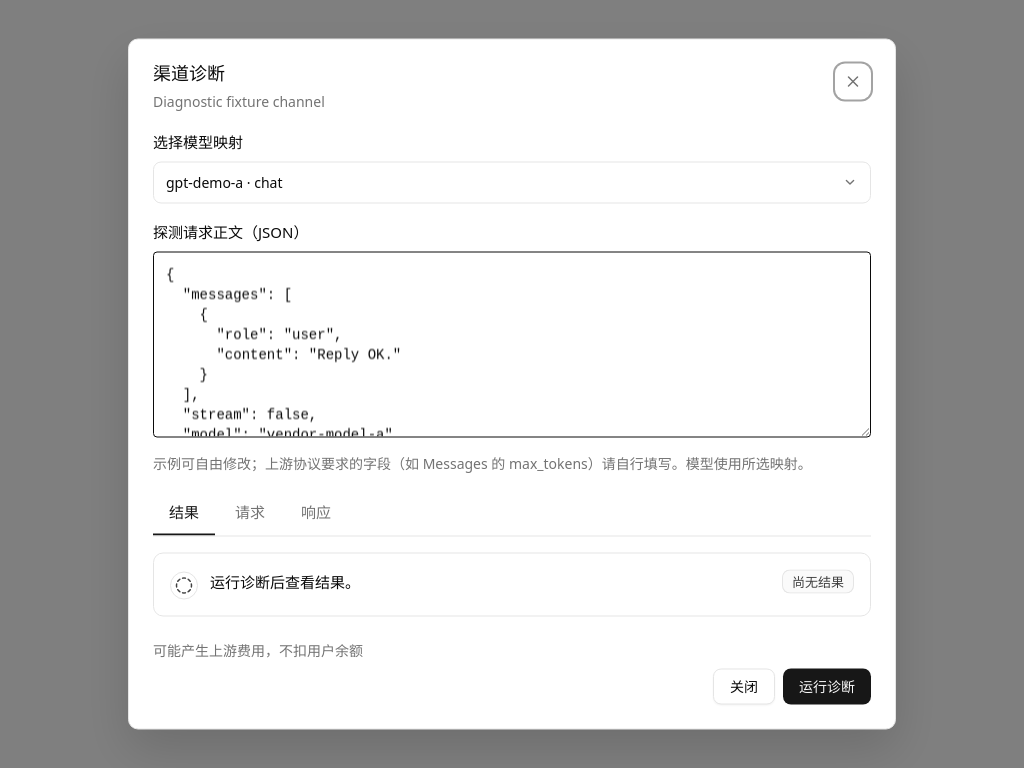
Test: ChannelDiagnostics › keeps a management API failure separate from an unknown upstream status
Step 1. Click the button "运行诊断" → [827, 686], box x1=783 y1=668 x2=871 y2=704
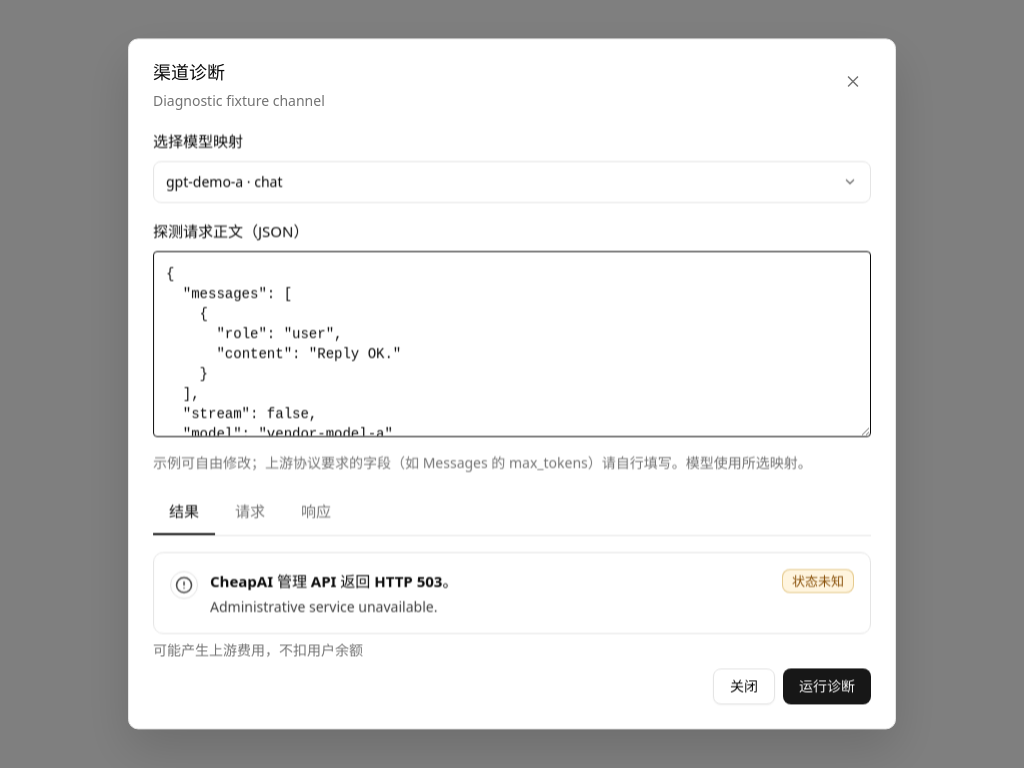
Result: the text "状态未知" is shown at x1=782 y1=569 x2=854 y2=593
Result: the element named "诊断结果" shows "503" at x1=210 y1=571 x2=457 y2=591
Result: the element named "诊断结果" shows "Administrative service unavailable." at x1=210 y1=597 x2=437 y2=616
Step 2. Click the tab "响应" → [316, 512], box x1=285 y1=489 x2=347 y2=535
(page scrolled)
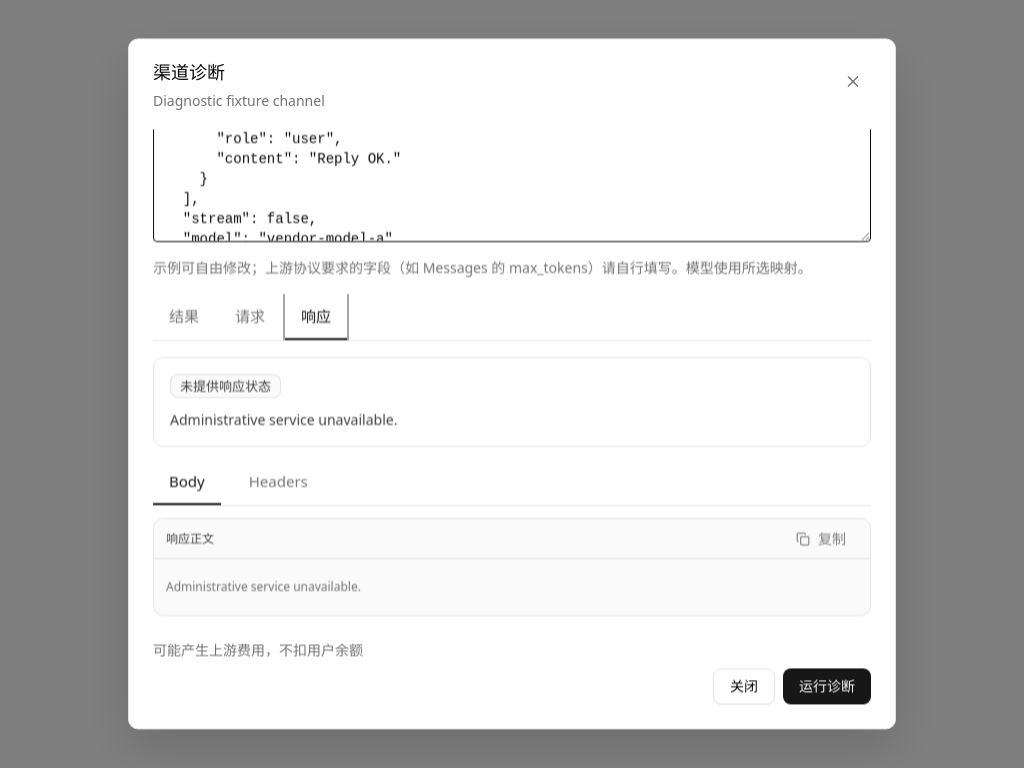
Result: the element named "上游响应" shows "未提供响应状态" at x1=180 y1=377 x2=271 y2=395
Result: the element named "上游响应" no longer shows "HTTP 503" at x1=153 y1=357 x2=871 y2=616
